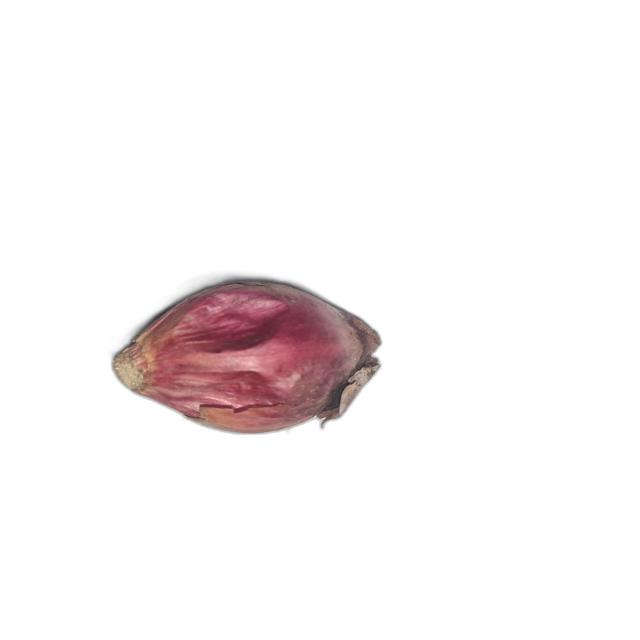onion: (112, 280, 384, 437)
